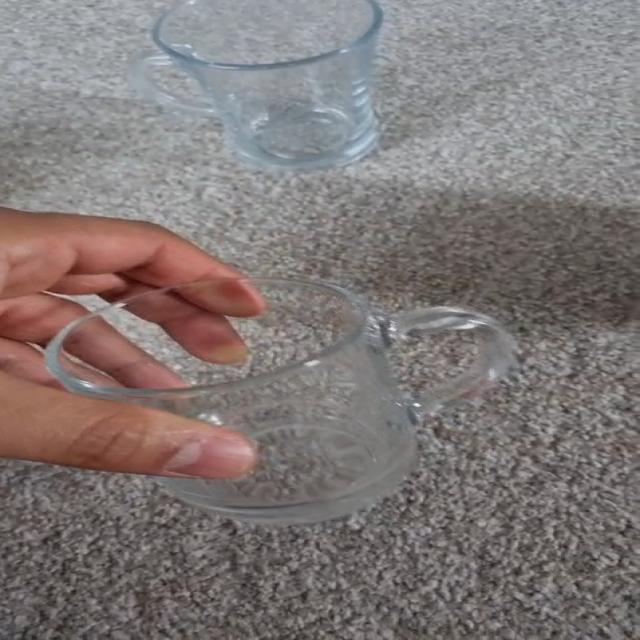Cup: (48, 276, 519, 529), (133, 0, 382, 171)
